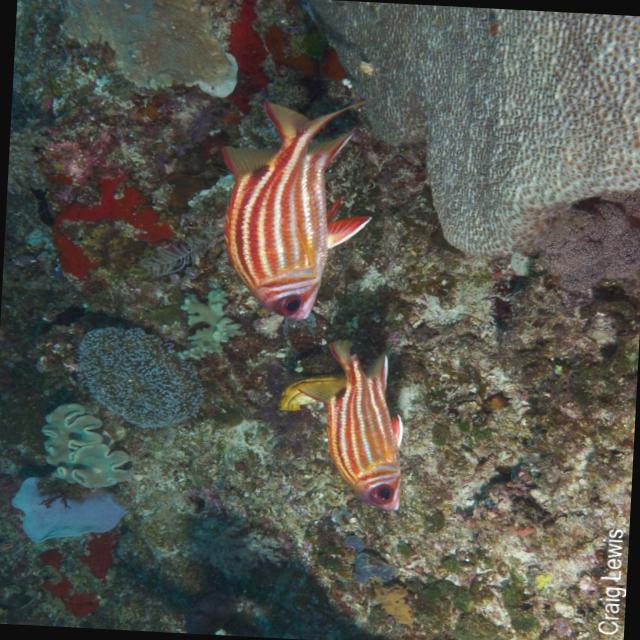Asker Baligi: (204, 78, 386, 342), (310, 337, 430, 522)
